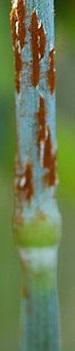Sugarcane: (12, 2, 55, 207)
